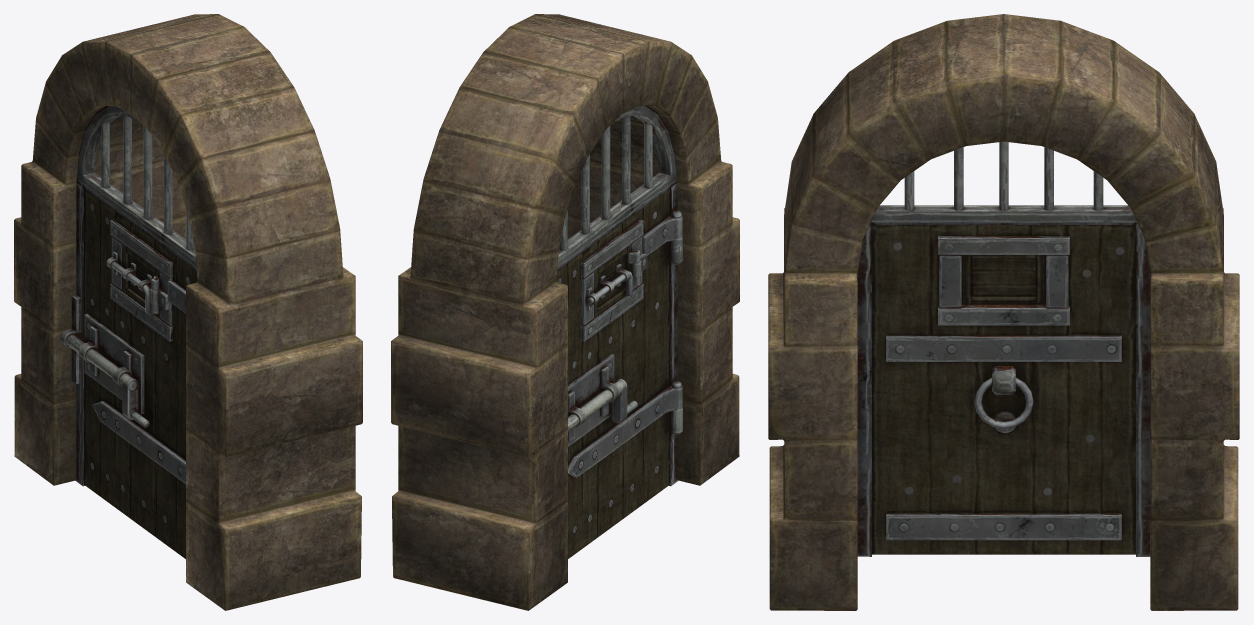
File: Ash_Mine_Dungeon_Door.glb
3 renders of one model, left to right at view 1: azimuth 30°, elevation 25°; view 2: azimuth 150°, elevation 25°; view 3: azimuth 270°, elevation 25°, orthographic. The views are drawn at different scales.
Parts seen in each view (by area): view 1: frame, door, handle, window; view 2: frame, door, window, handle; view 3: frame, door, window.
Part boxes in pixels (left/top/right/bottom): frame: left=14, top=14, right=362, bottom=610; door: left=79, top=188, right=197, bottom=558; handle: left=66, top=334, right=149, bottom=427; window: left=122, top=243, right=159, bottom=318; frame: left=391, top=14, right=739, bottom=610; door: left=556, top=188, right=682, bottom=558; window: left=594, top=243, right=640, bottom=318; handle: left=568, top=379, right=637, bottom=431; frame: left=768, top=14, right=1239, bottom=610; door: left=872, top=225, right=1135, bottom=554; window: left=961, top=255, right=1046, bottom=304.
Size of the model in its own units: 1.46 by 4.83 by 3.89.
1 material, 1 textured.
